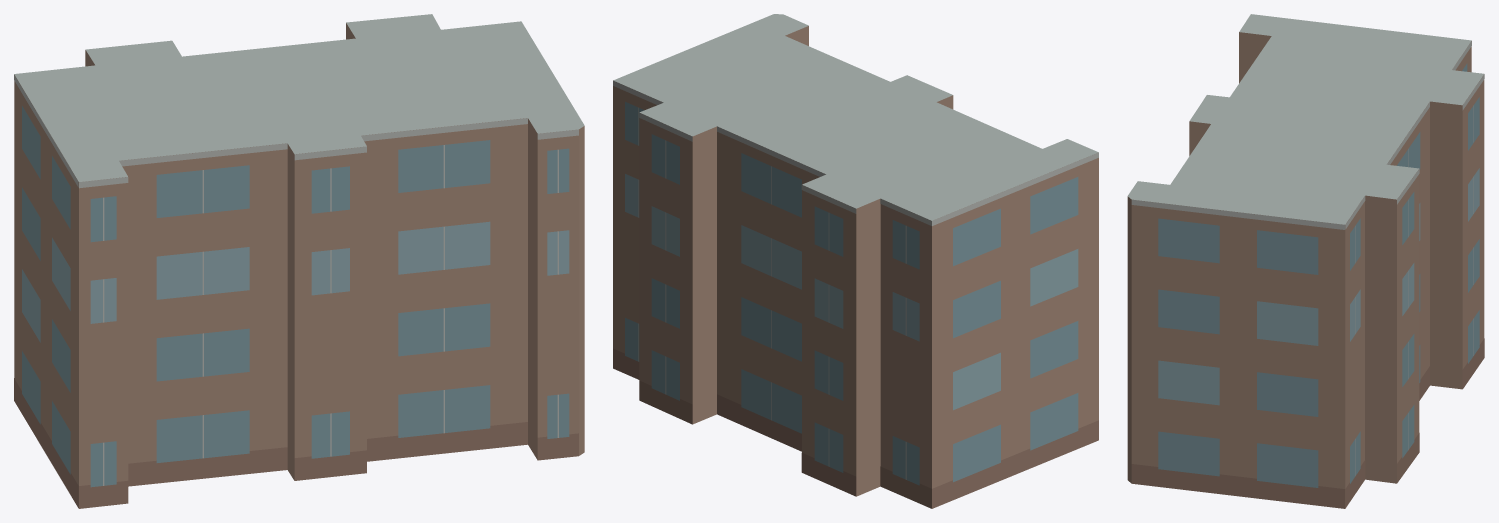
The model's file is survey-upis-32709250.glb.
3 views of the same model, side by side, from view 1: azimuth 30°, elevation 25°; view 2: azimuth 150°, elevation 25°; view 3: azimuth 270°, elevation 25° (orthographic). The views are drawn at different scales.
Visible parts, largest first — view 1: survey-upis-32709250.tmp; view 2: survey-upis-32709250.tmp; view 3: survey-upis-32709250.tmp.
Boxes of the visible parts, <box> form: survey-upis-32709250.tmp: <box>14,14,584,508</box>; survey-upis-32709250.tmp: <box>613,14,1098,508</box>; survey-upis-32709250.tmp: <box>1127,14,1484,508</box>.
Size of the model in its own units: 20.86 by 13.1 by 14.93.
